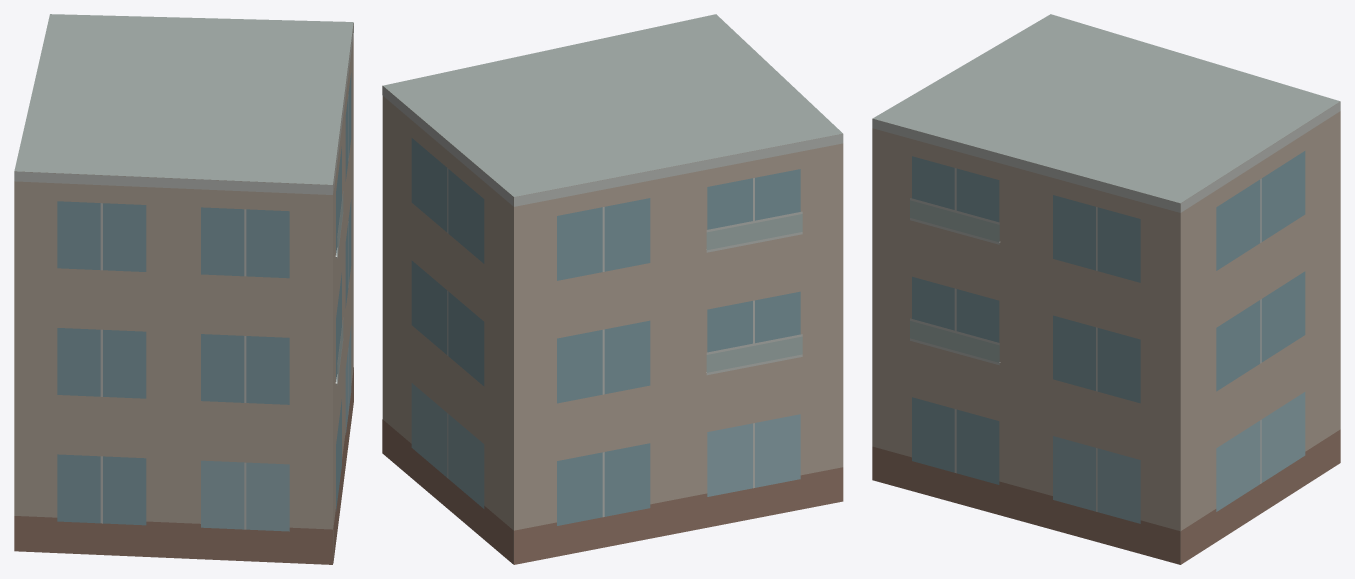
The model's file is survey-upis-32567383.glb.
The picture shows the model from 3 angles, left to right: view 1: azimuth 30°, elevation 25°; view 2: azimuth 150°, elevation 25°; view 3: azimuth 270°, elevation 25°; orthographic projection. The views are drawn at different scales.
Parts seen in each view (by area): view 1: survey-upis-32567383.tmp; view 2: survey-upis-32567383.tmp; view 3: survey-upis-32567383.tmp.
Part boxes in pixels (<box>): survey-upis-32567383.tmp: <box>14,14,353,564</box>; survey-upis-32567383.tmp: <box>382,14,843,564</box>; survey-upis-32567383.tmp: <box>872,14,1340,564</box>.
Bounding box in the file's own units: 10.28 × 9.15 × 10.75.
